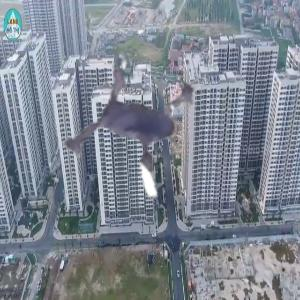drone: (27, 43, 249, 265)
